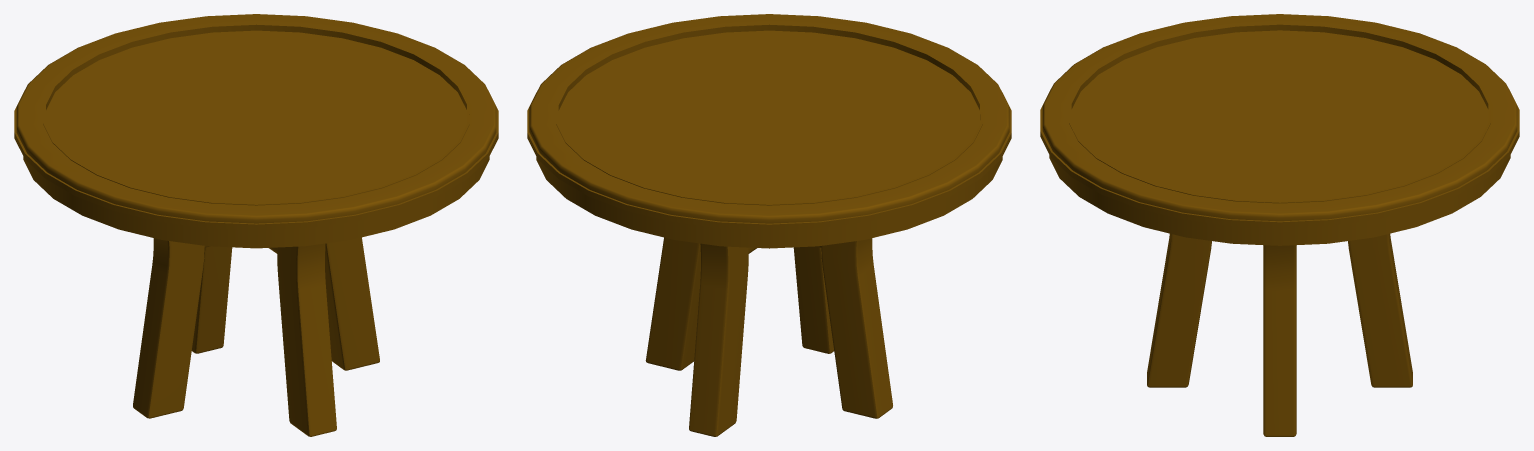
File: Table.fbx
3 views of the same model, side by side, from view 1: azimuth 30°, elevation 25°; view 2: azimuth 150°, elevation 25°; view 3: azimuth 270°, elevation 25° (orthographic).
Visible parts, largest first — view 1: DiceGameTable:Table; view 2: DiceGameTable:Table; view 3: DiceGameTable:Table.
Boxes of the visible parts, x1,y1,x2,y2 form: DiceGameTable:Table: (14, 14, 498, 436); DiceGameTable:Table: (527, 14, 1011, 436); DiceGameTable:Table: (1040, 14, 1519, 436).
Bounding box in the file's own units: 11.5 × 7.08 × 11.44.
